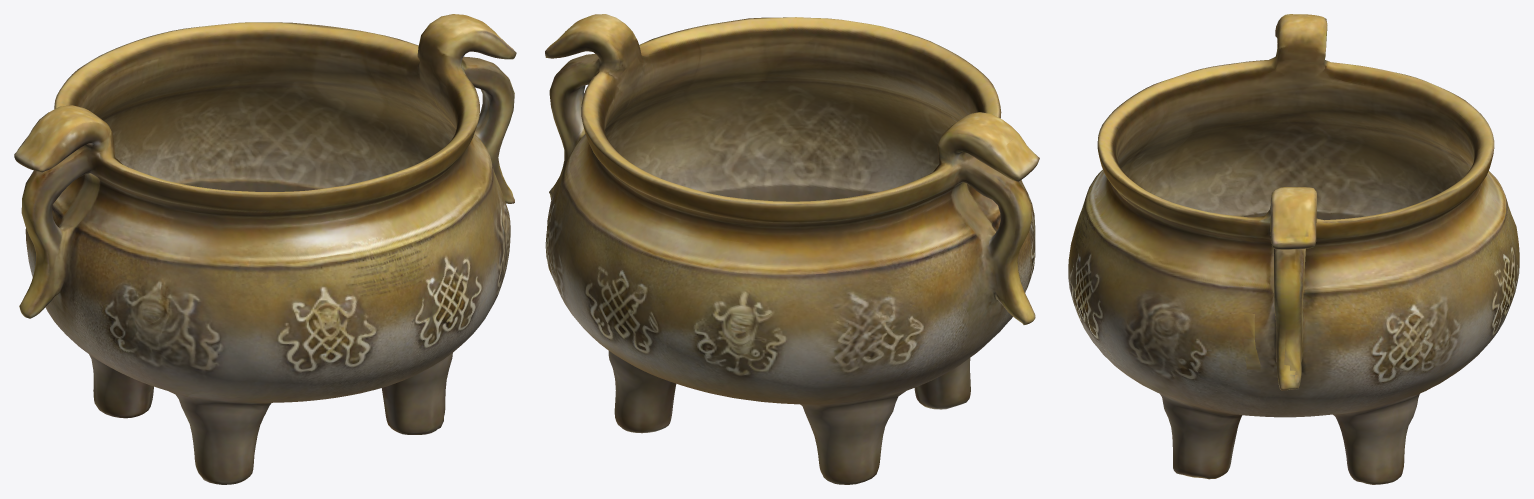
Rendered from Tibetan_Ritual_Incens_0127051158_texture.glb.
3 views of the same model, side by side, from view 1: azimuth 30°, elevation 25°; view 2: azimuth 150°, elevation 25°; view 3: azimuth 270°, elevation 25° (orthographic). The views are drawn at different scales.
Bounding box in the file's own units: 1.99 × 1.37 × 1.72.
1 material, 1 textured.
